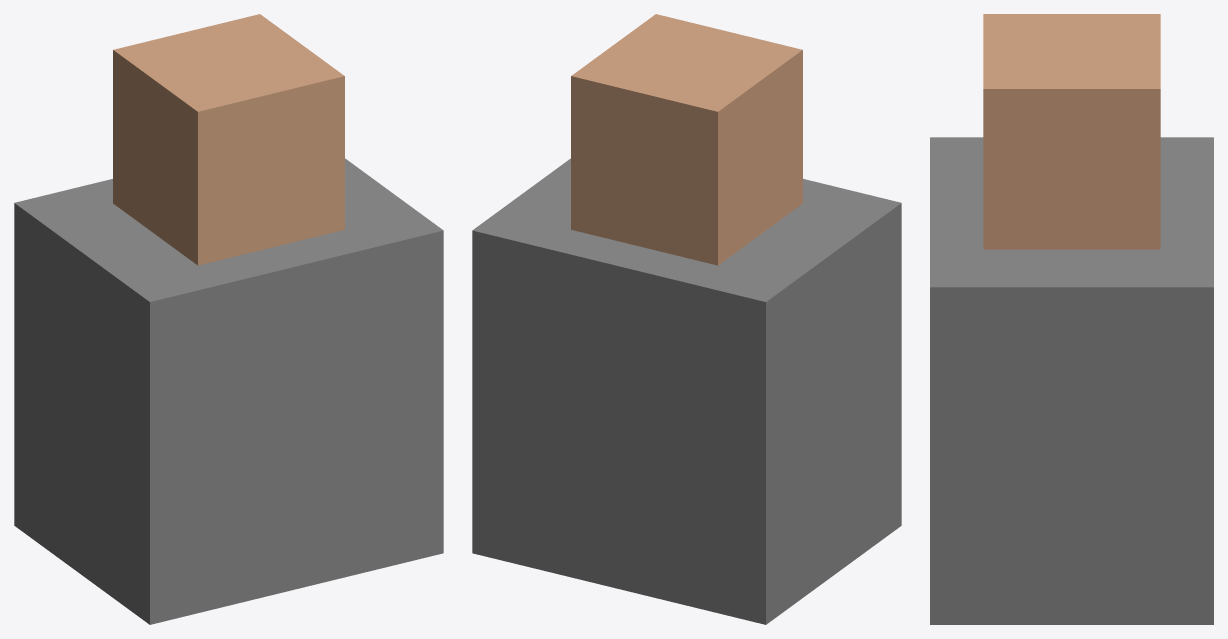
The model's file is enterprise_rider.obj.
3 views of the same model, side by side, from view 1: azimuth 30°, elevation 25°; view 2: azimuth 150°, elevation 25°; view 3: azimuth 270°, elevation 25° (orthographic). The views are drawn at different scales.
Bounding box in the file's own units: 0.4 × 0.62 × 0.32.
